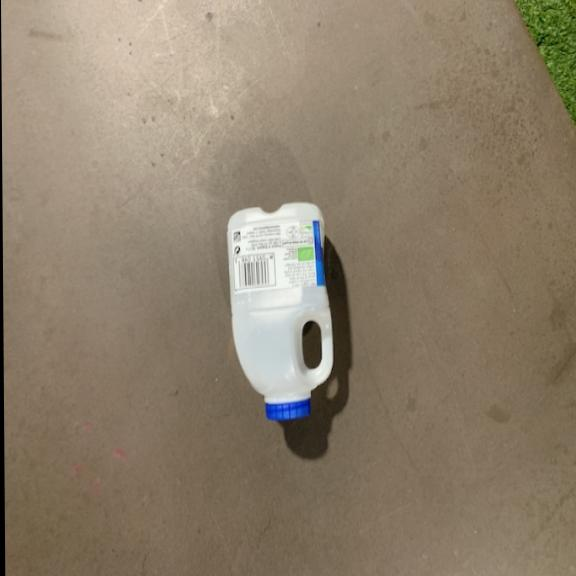Plastik: (222, 198, 333, 422)
